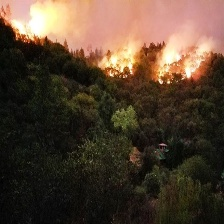fire: (10, 25, 38, 46), (109, 66, 136, 79), (156, 69, 174, 86), (182, 67, 194, 80)
smoke: (110, 27, 214, 65), (30, 2, 98, 35)
